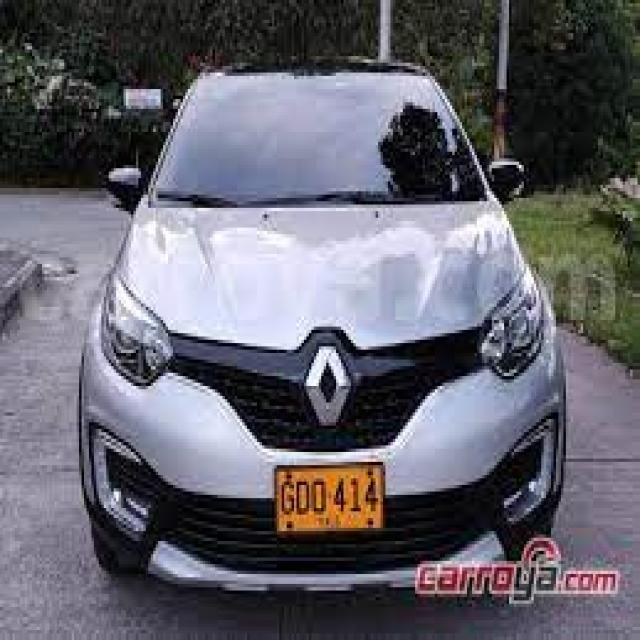placa_carro: (273, 459, 390, 538)
